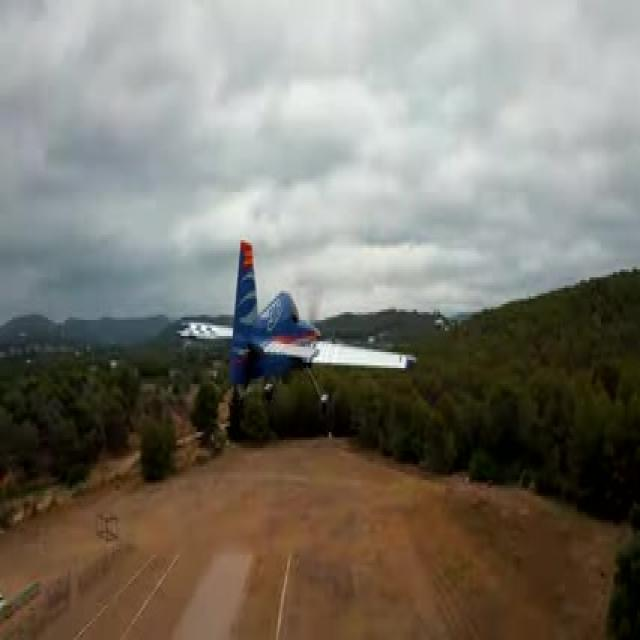iha: (180, 232, 419, 416)
